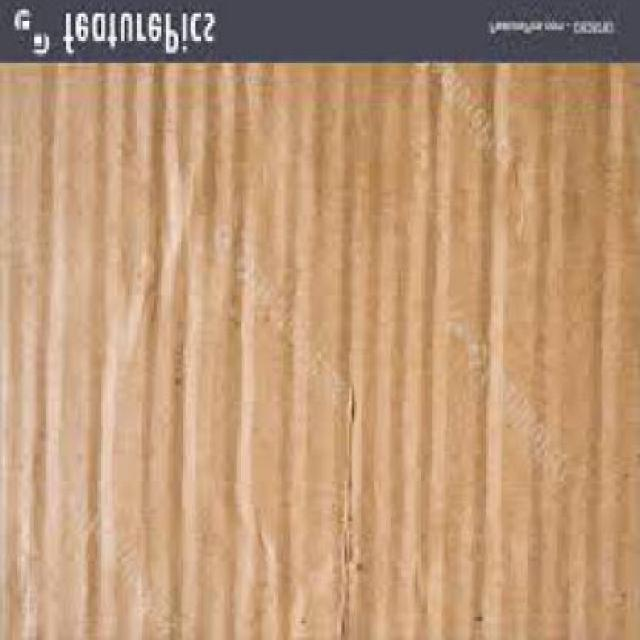CARDBOARD: (0, 64, 638, 640)
